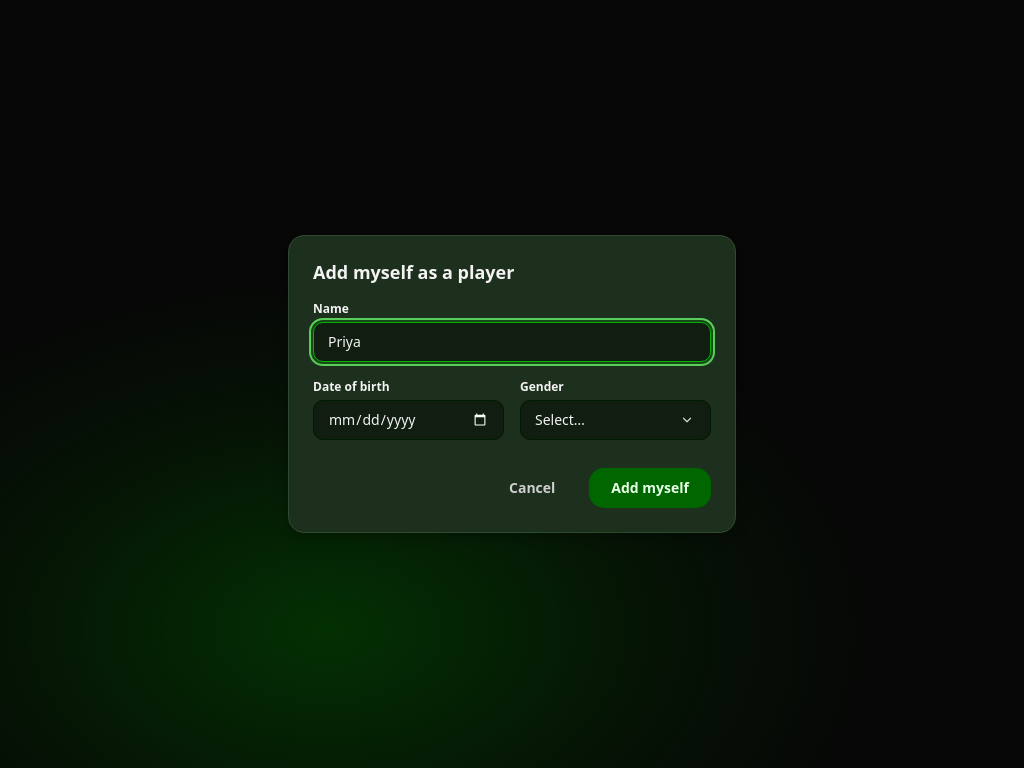
Test case: AddSelfProfileModal › shows a message on 409 (already has a self profile)
In the date field labelled "Date of birth": (408, 420) [313,400,504,440], type "1985-05-05"
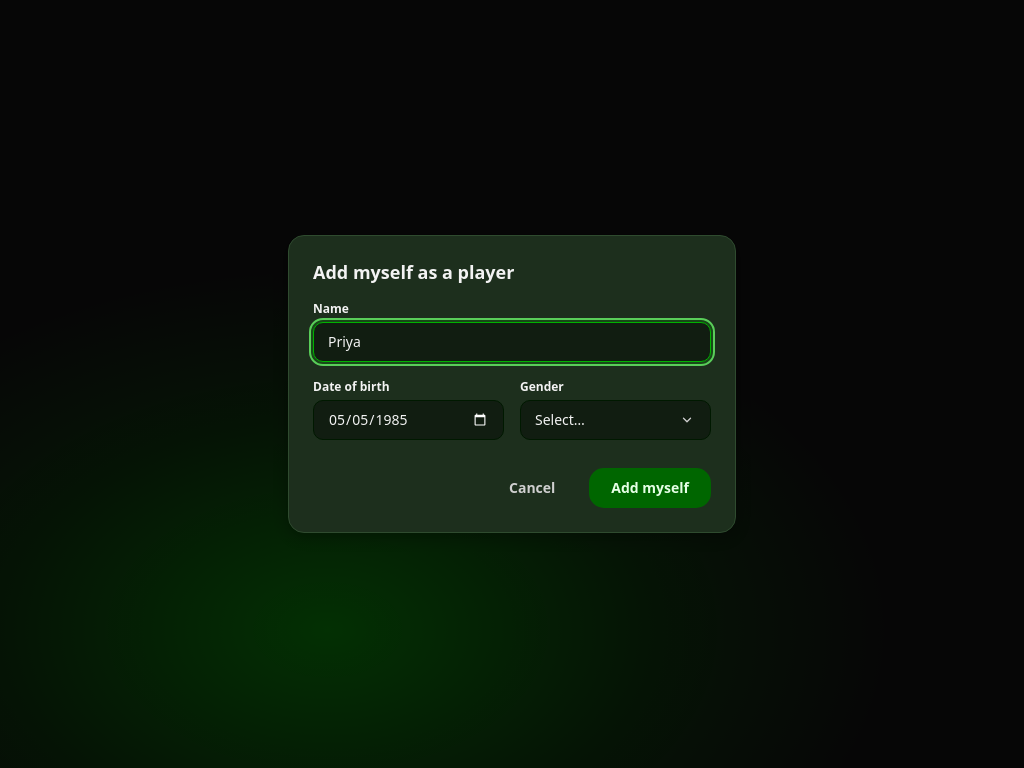
Select "female" in the dropdown labelled "Gender": (616, 420) [520,400,711,440]
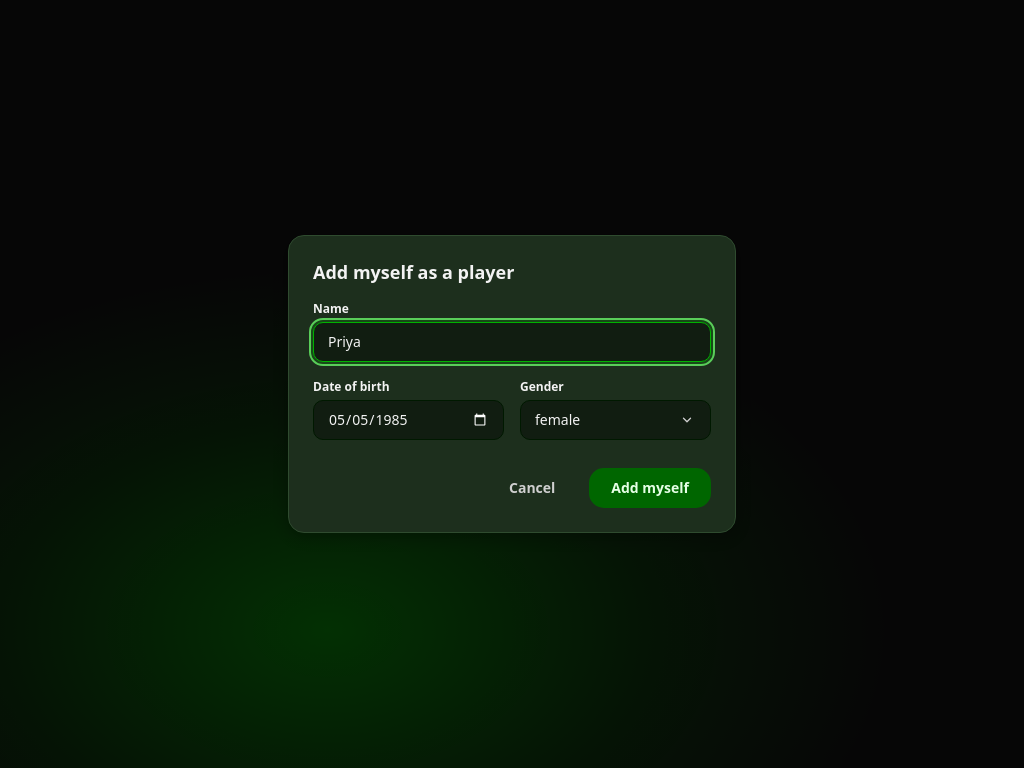
Click the button "Add myself": (650, 488) [589,468,711,508]
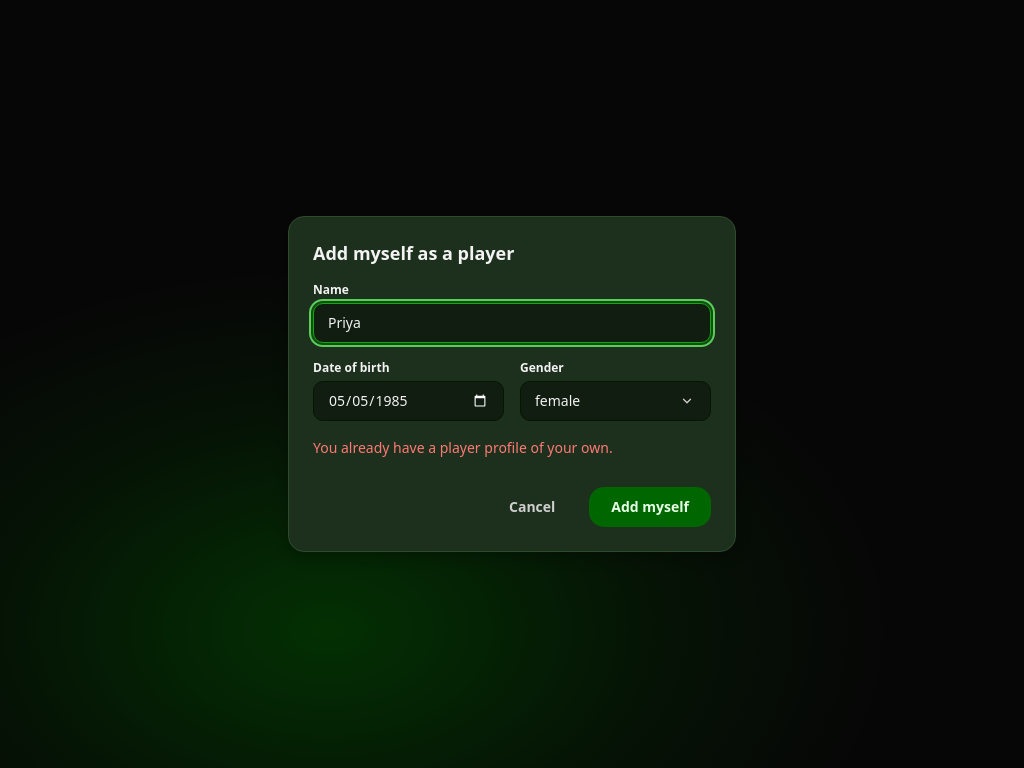
Result: the text "You already have a player profile of your own." is shown at [313,438,613,457]
